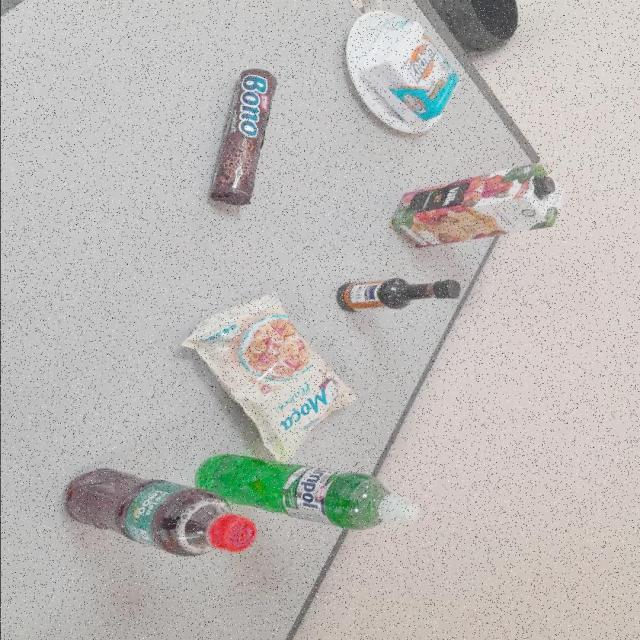Cleaner: (196, 454, 420, 532)
Cookies: (203, 70, 280, 206)
CornFlakes: (179, 295, 360, 460)
EnglishSauce: (339, 277, 458, 312)
IceTea: (64, 464, 256, 558)
